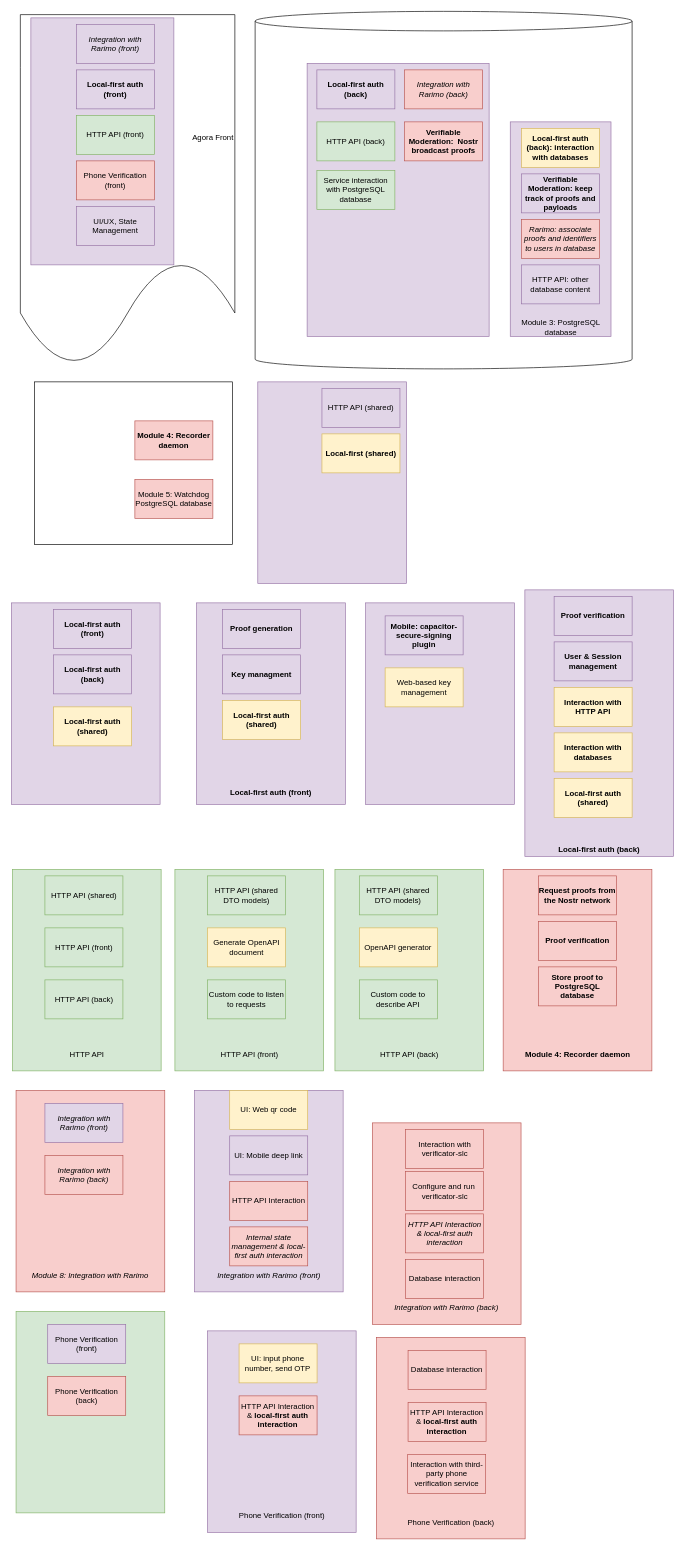
The diagram is 685 pixels wide and 1550 high, and some of its shapes have lost their labels. The shapes that lost their labels are listed below. From the top down, each one's box as (x1, y1, x2, y2) in pixels, then its label:
(30, 17, 174, 265): Module 1: frontend application
(306, 63, 489, 336): Module 2: backend application
(254, 11, 632, 369): Agora back
(34, 381, 232, 544): Agora Watchdog Server
(257, 381, 407, 583): Module 6: shared module
(11, 602, 160, 804): Module 7: Local-first auth
(365, 602, 514, 804): Local-first auth (front): Key management
(15, 1311, 165, 1513): Module 9: Phone Verification
